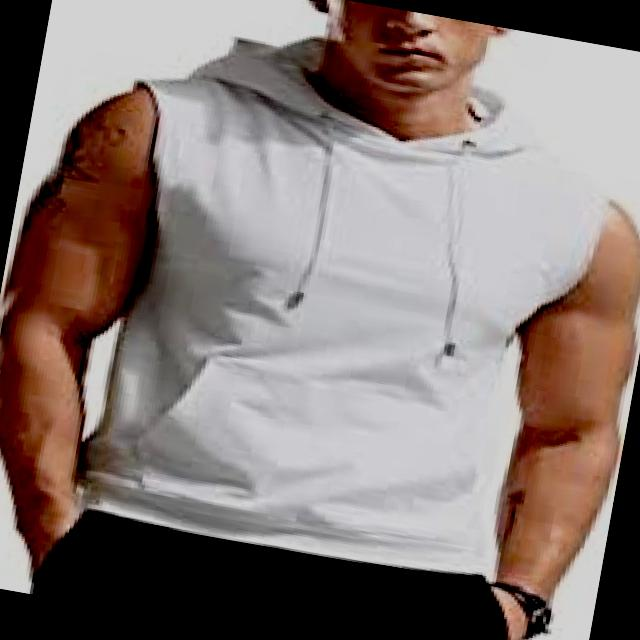no_vest: (71, 6, 630, 592)
